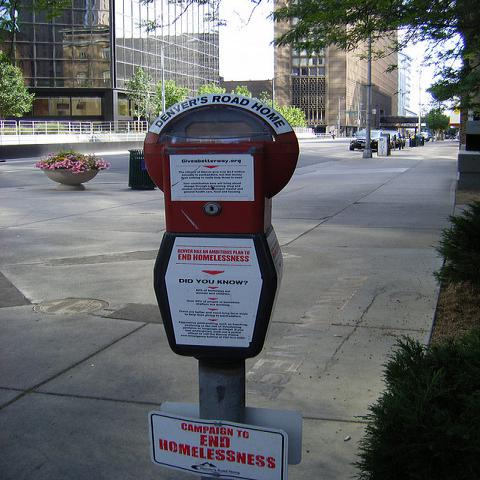car: (350, 129, 384, 150), (382, 131, 397, 148), (394, 131, 400, 149), (420, 132, 430, 141), (400, 136, 406, 147)
